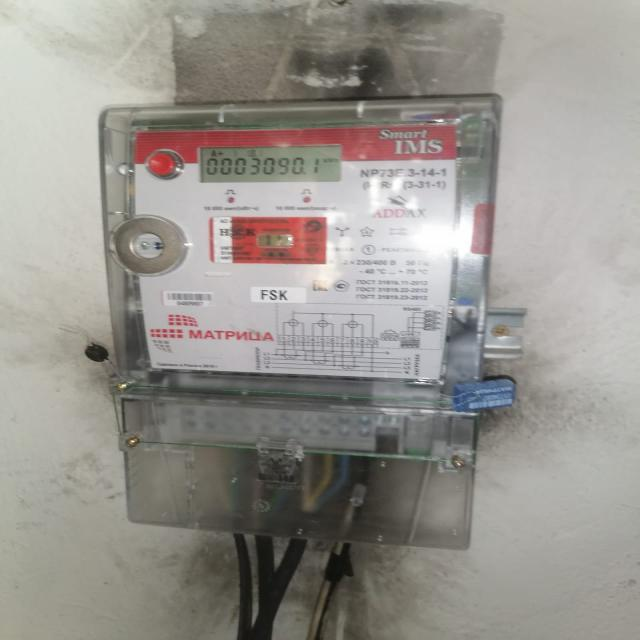Display: (199, 141, 348, 188)
meter_matrica: (123, 121, 469, 390)
meter_number: (161, 289, 215, 305)
seal_elso: (248, 436, 311, 490)
seal_imp: (208, 213, 331, 266)
